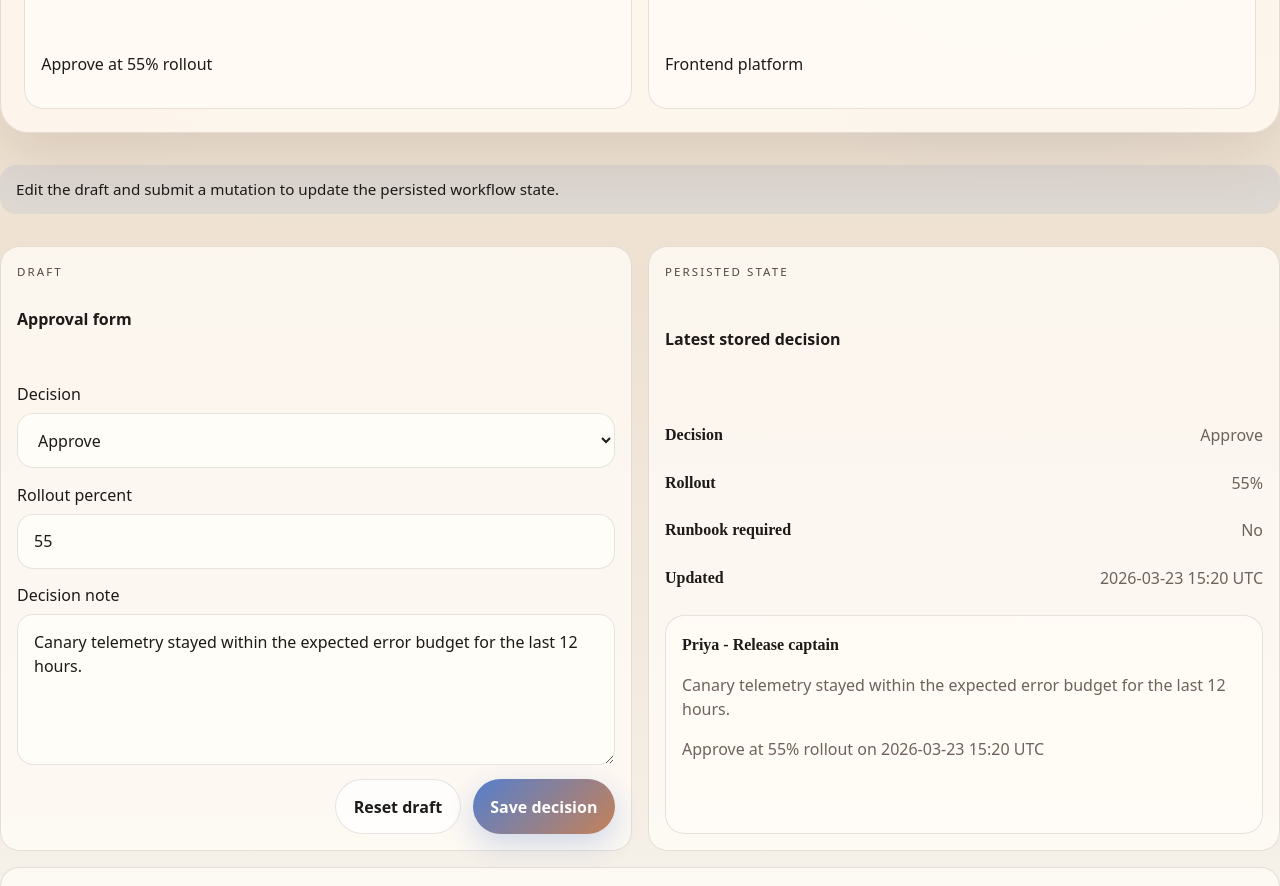
it: release approval mutation workflow › shows the server-style validation error for invalid rollback notes
(page scrolled)
Select "Rollback" in the dropdown labelled "Decision" at point(316, 441), box [17,414,615,468]
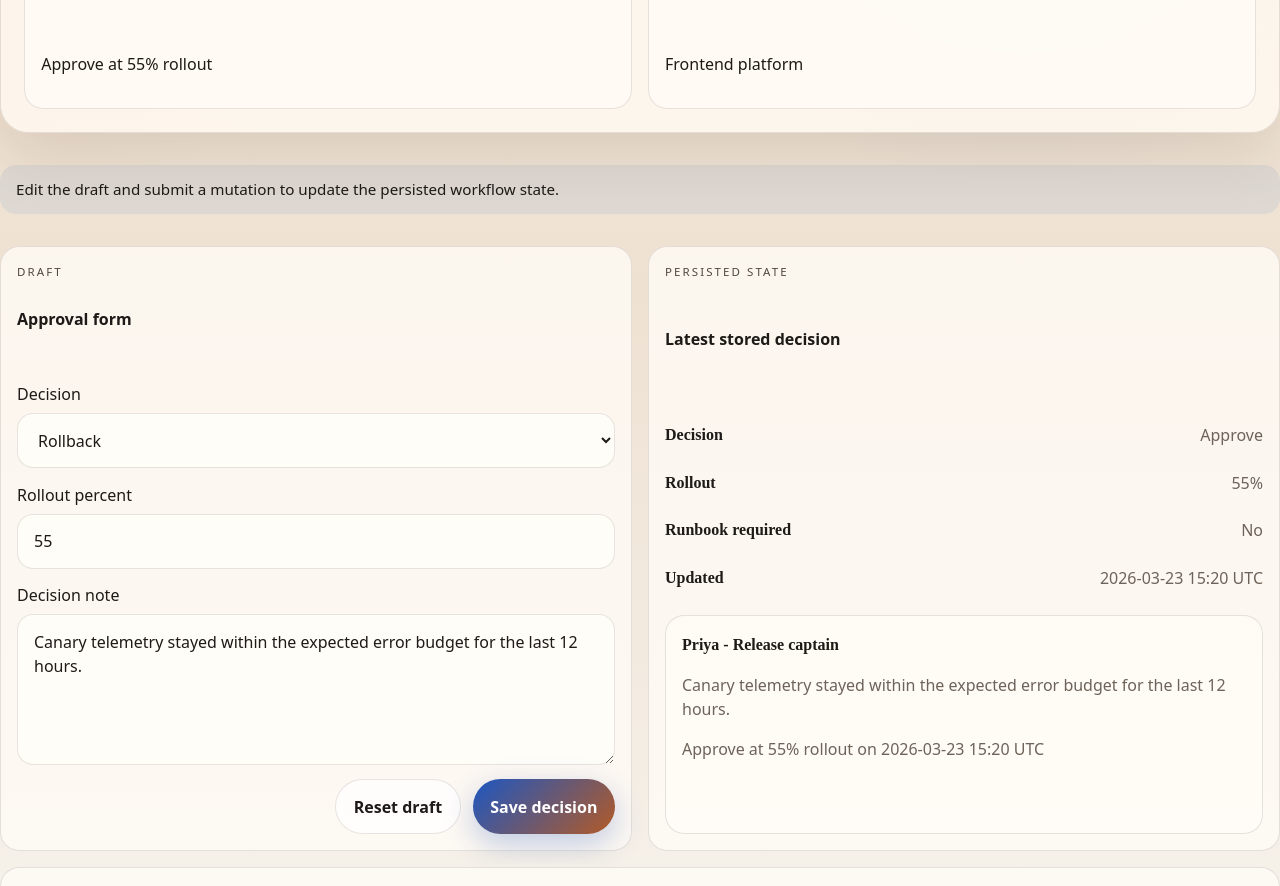
Replace the text in the text box labelled "Decision note" with "Too short" at point(316, 690), box [17,614,615,765]
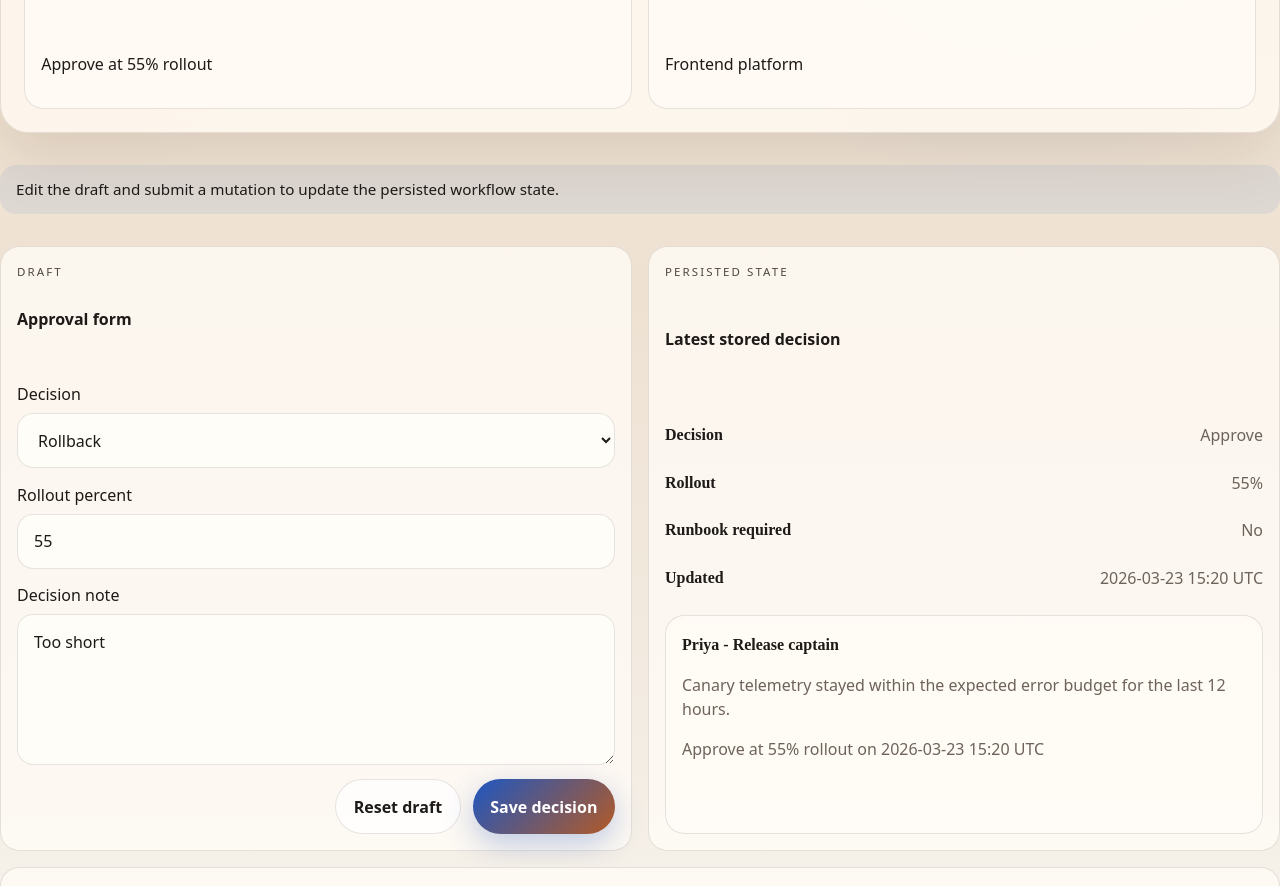
Click the button "Save decision" at point(544, 807), box [473,779,615,834]
Wait 340 ms
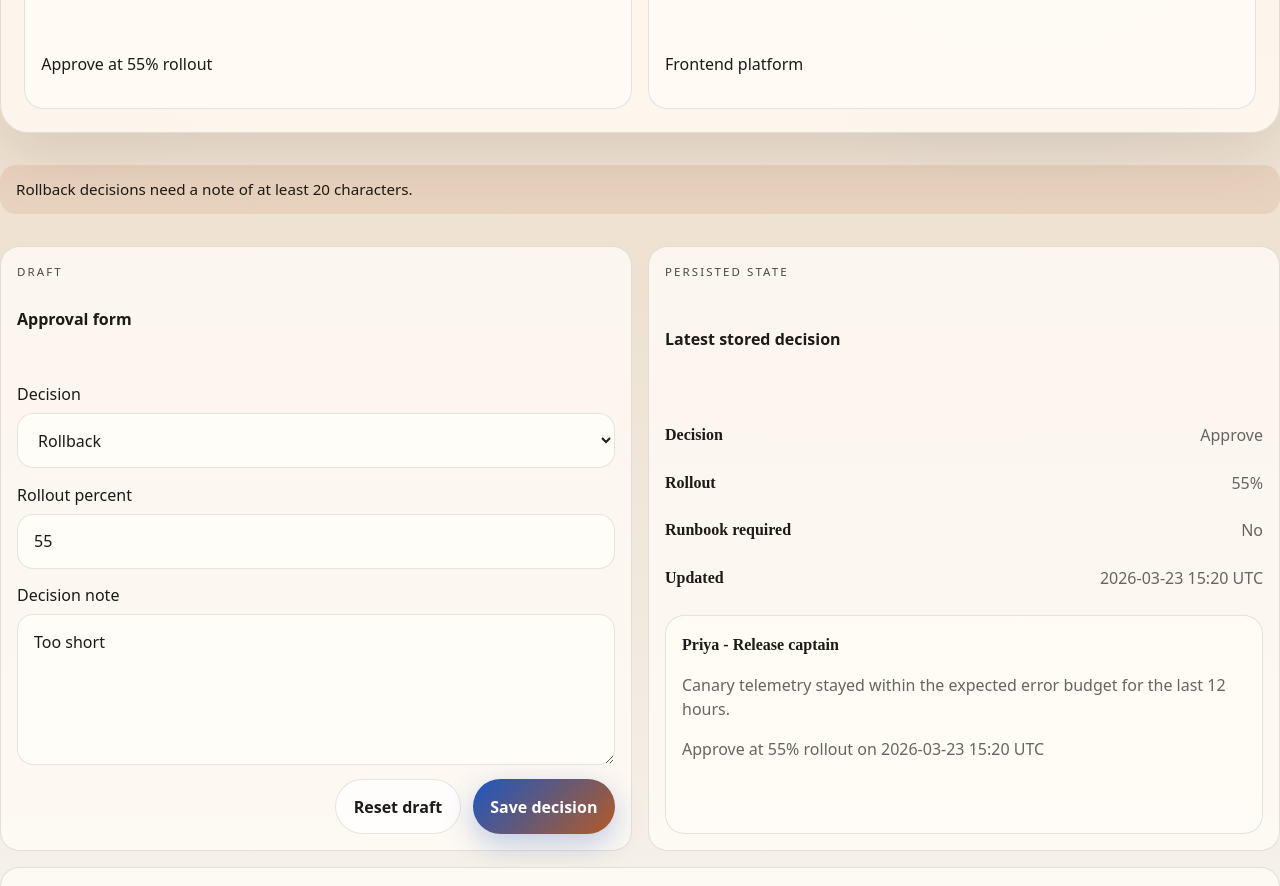
Expected: the text "Rollback decisions need a note of at least 20 characters." is shown, [0,165,1279,214]
